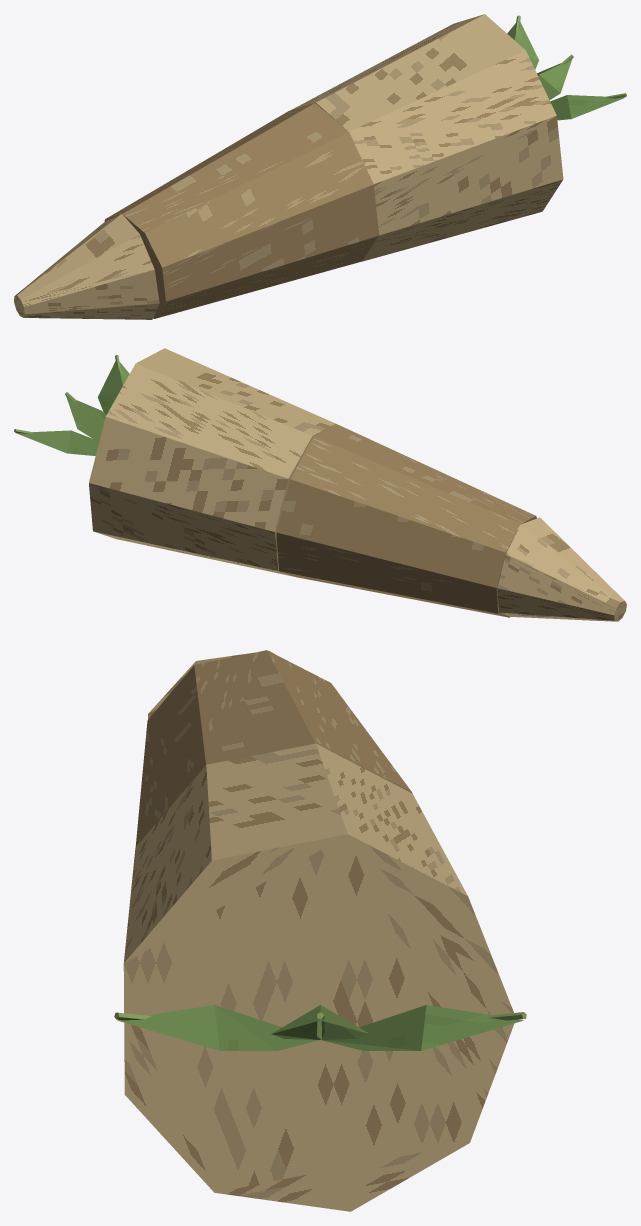
Rendered from horseradish_root.glb.
The picture shows the model from 3 angles, top to bottom: view 1: azimuth 30°, elevation 25°; view 2: azimuth 150°, elevation 25°; view 3: azimuth 270°, elevation 25°; orthographic projection. The views are drawn at different scales.
Visible parts, largest first — view 1: block_tapering root 2, block_tapering root 1, block_tapering root 0, block_trimmed leaf stalk tip (×2); view 2: block_tapering root 2, block_tapering root 1, block_tapering root 0, block_trimmed leaf stalk tip (×3), block_trimmed leaf stalk blade (×2); view 3: block_tapering root 2, block_tapering root 1, block_trimmed leaf stalk blade (×2), block_trimmed leaf stalk tip (×2).
Part boxes in pixels (x1,y1,x2,y2): block_tapering root 2: (291,14,563,261); block_tapering root 1: (104,103,378,318); block_tapering root 0: (14,214,159,319); block_trimmed leaf stalk tip (×2): (539,59,625,118); block_tapering root 2: (89,348,335,576); block_tapering root 1: (276,424,536,617); block_tapering root 0: (497,517,626,621); block_trimmed leaf stalk tip (×3): (16,361,122,453); block_trimmed leaf stalk blade (×2): (67,411,104,455); block_tapering root 2: (123,743,514,1211); block_tapering root 1: (135,650,412,846); block_trimmed leaf stalk blade (×2): (214,1005,426,1050); block_trimmed leaf stalk tip (×2): (117,1005,523,1050).
Size of the model in its own units: 0.168 by 0.0538 by 0.0552.
2 materials, 2 textured.
